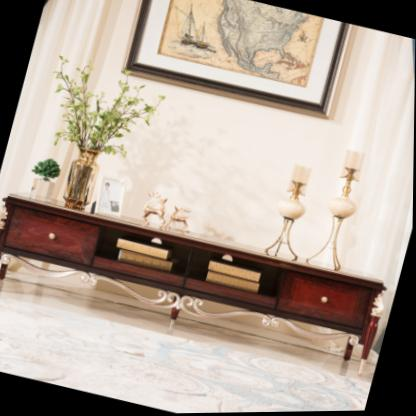TV stand: (0, 178, 395, 384)
